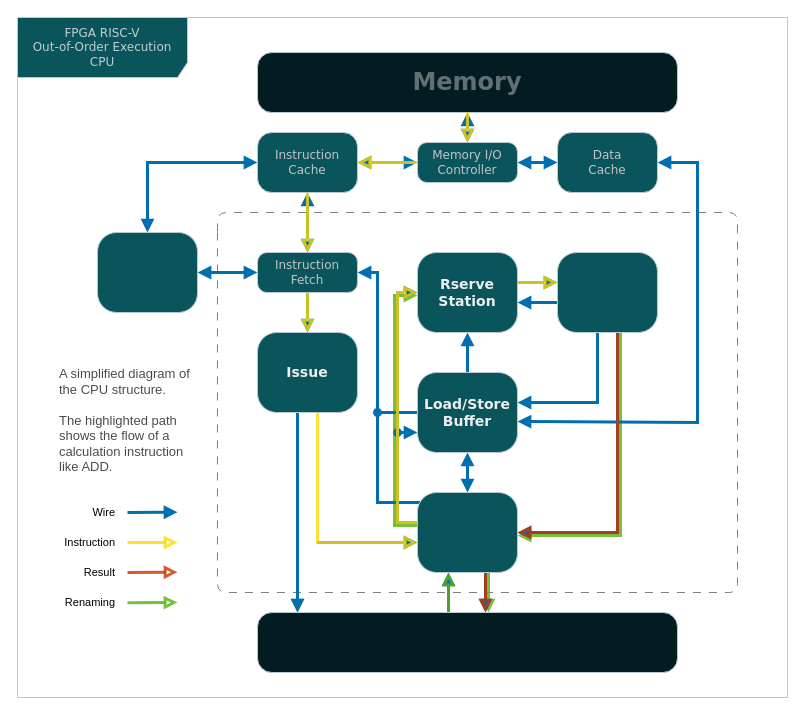
Image size: 805x715. Some labels were removed from this diagram. Each missing label, with the box of its shape:
Branch Predictor: (96, 232, 198, 312)
Execution: (556, 252, 658, 332)
Main Computaion: (216, 212, 738, 592)
Re-Order Buffer: (416, 492, 518, 572)
Register: (256, 612, 678, 672)
